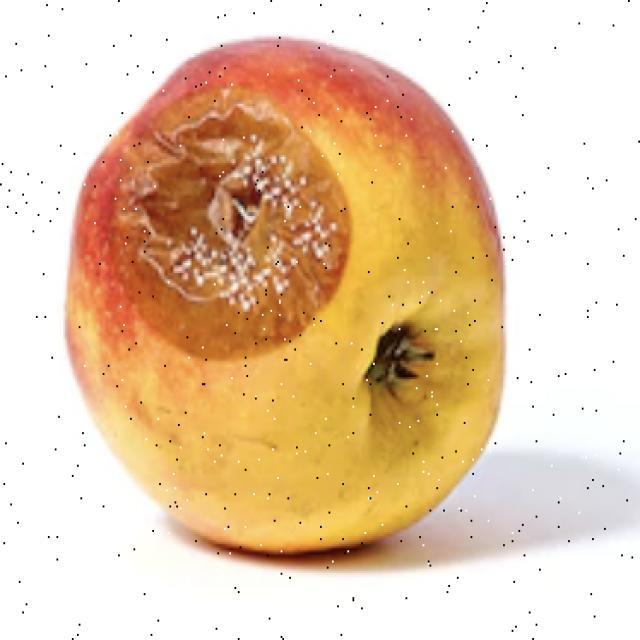Rotten: (62, 33, 520, 547)
